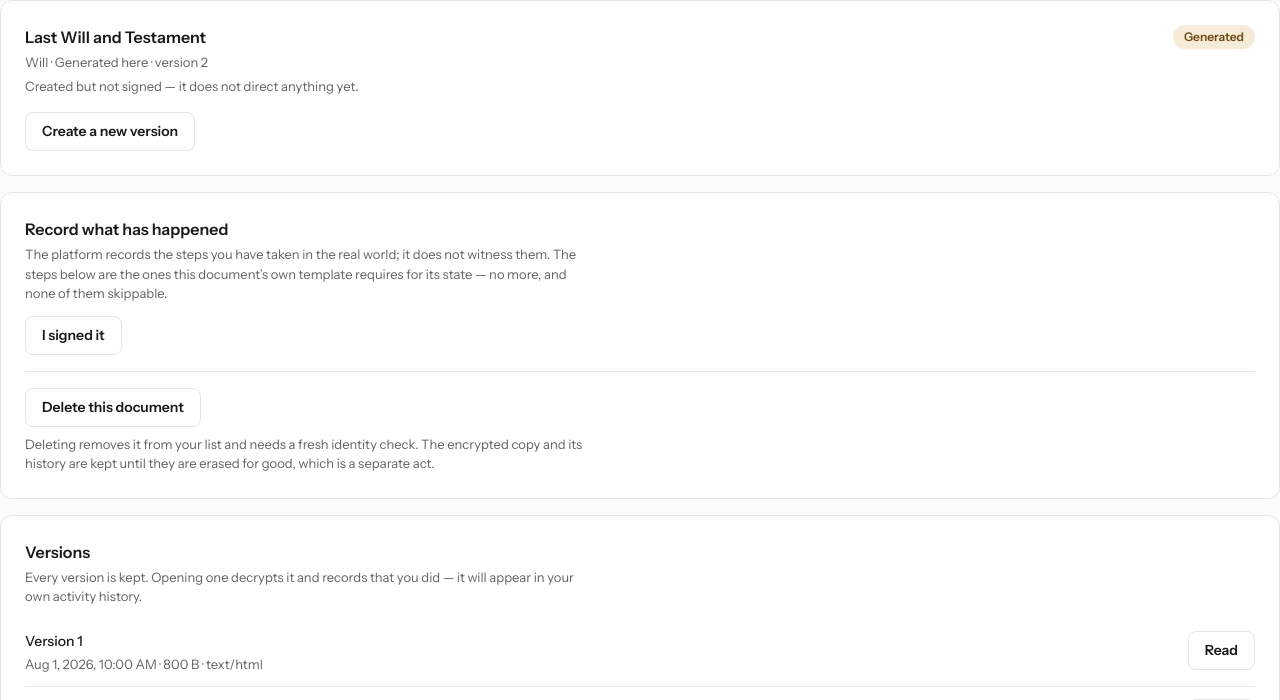
reading a version is a deliberate act › offers no retry for a crypto-shredded version
Click the button "Read" in the row of "Aug 1, 2026, 10:00 AM" at (1221, 650), box [1188, 630, 1255, 670]
(page scrolled)
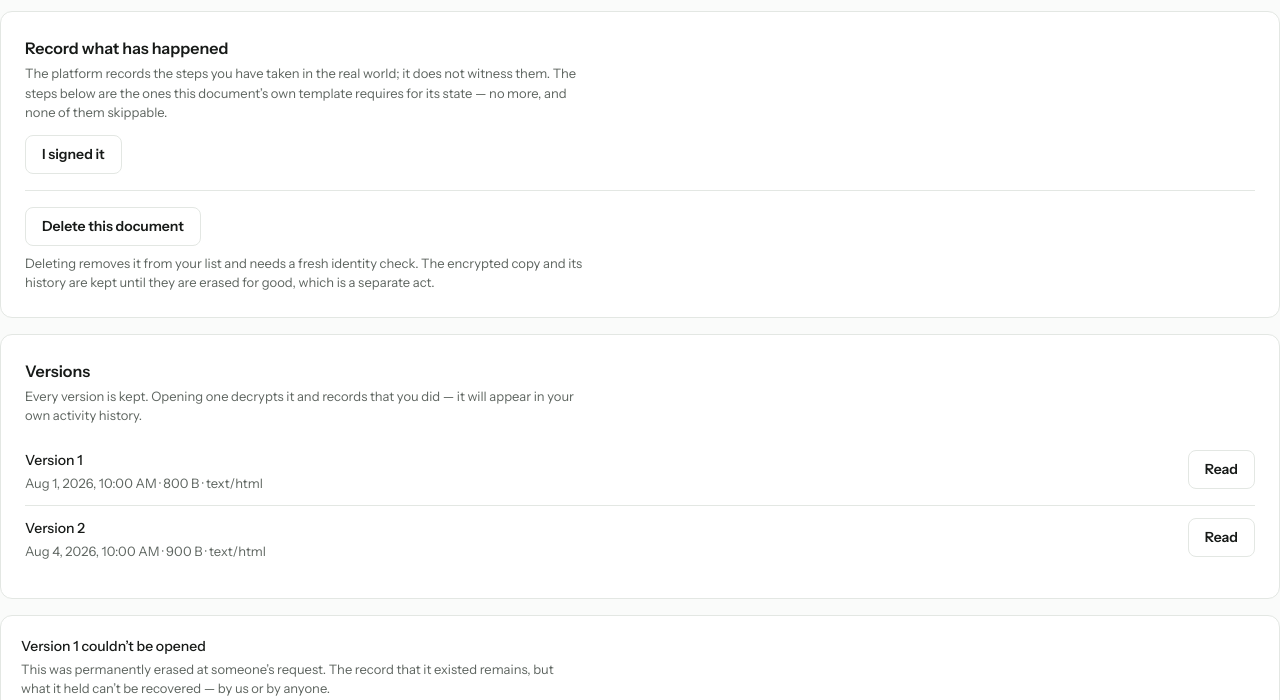
Result: the text "permanently erased" is shown at [21, 660, 554, 696]
